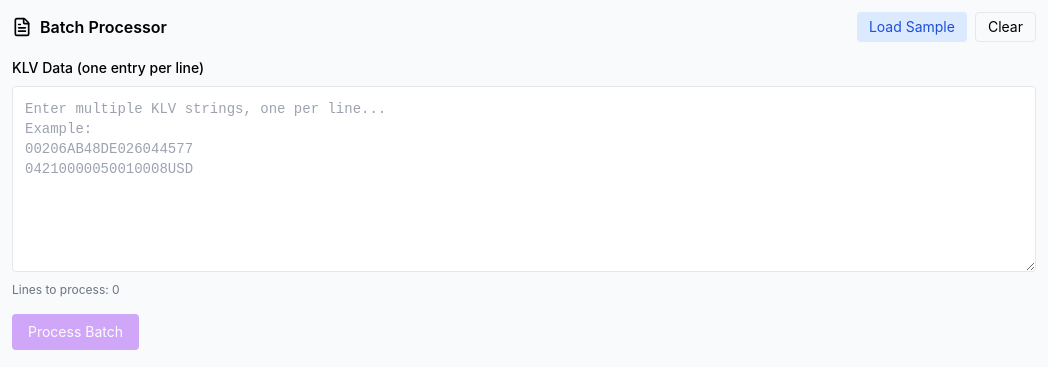
Test: BatchProcessor › Sample Data Loading › should load sample data when Load Sample button is clicked
Click the button "Load Sample" at (912, 27), box [857,12,967,42]
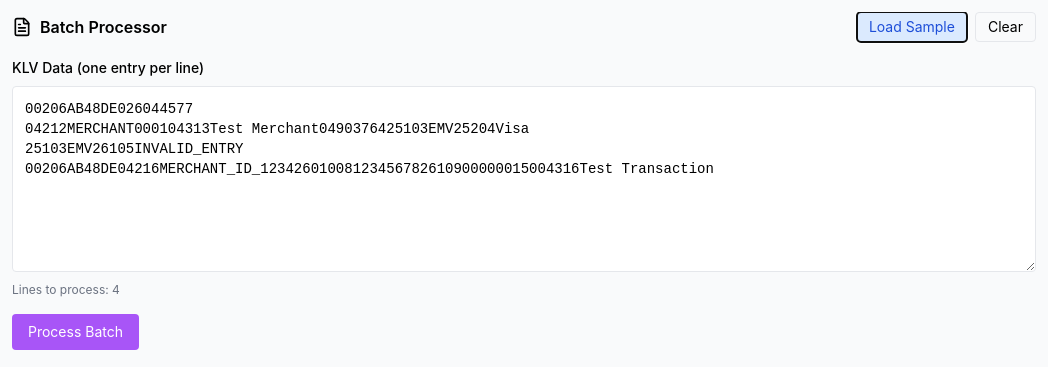
Now the text "Lines to process: 4" is shown, box [12,282,120,297]
